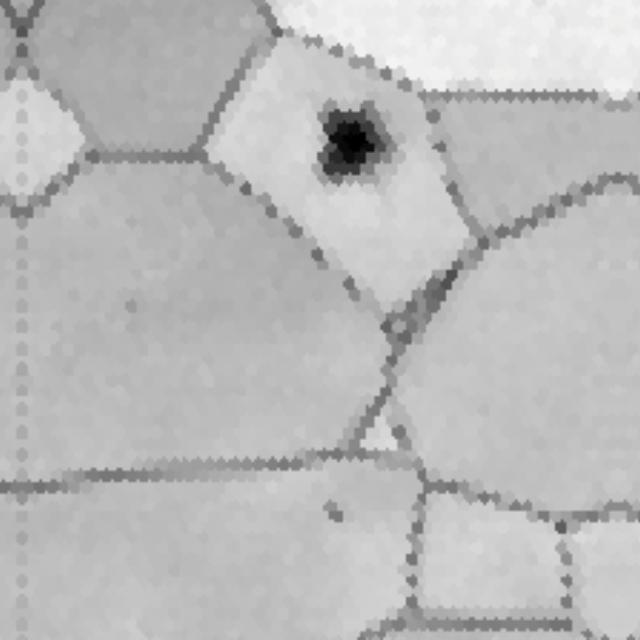good_void: (311, 100, 400, 186), (317, 501, 348, 528)
